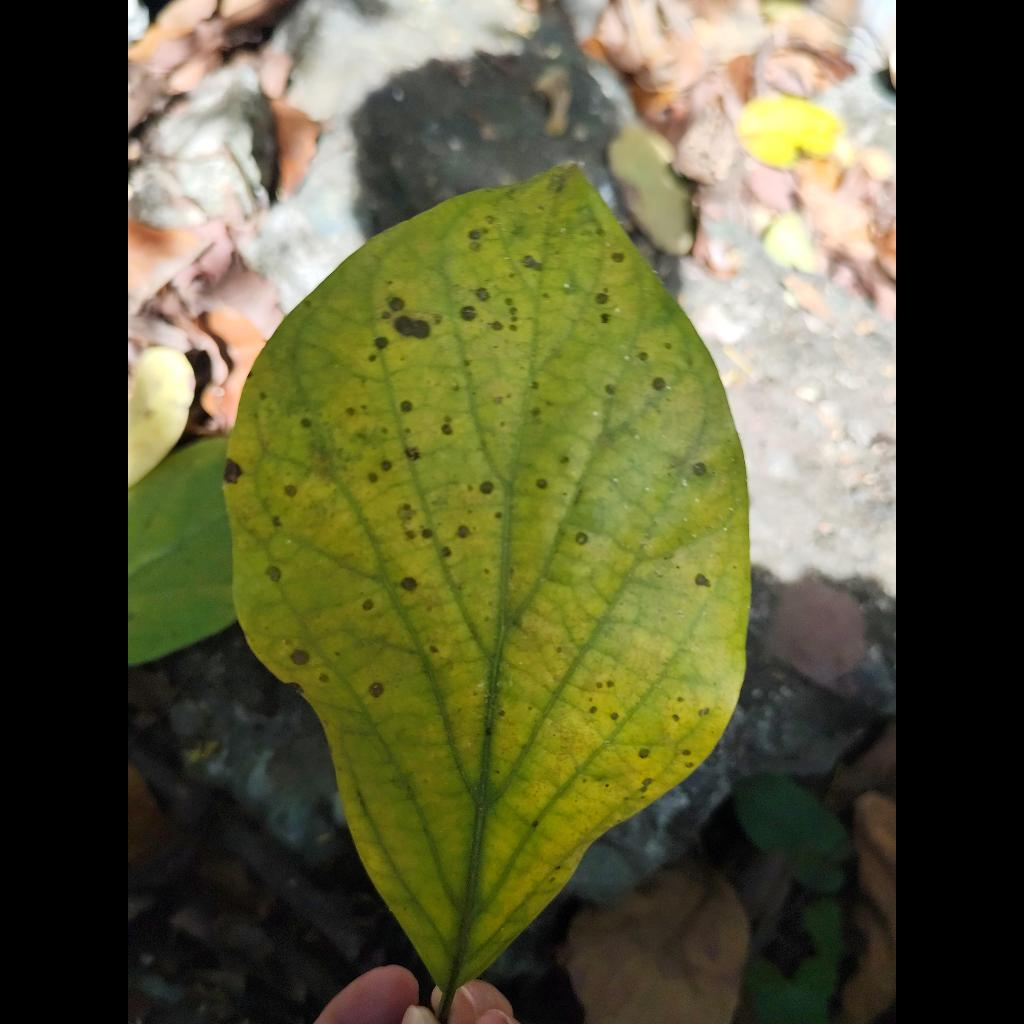nutrient_deficiency: (225, 165, 749, 998)
